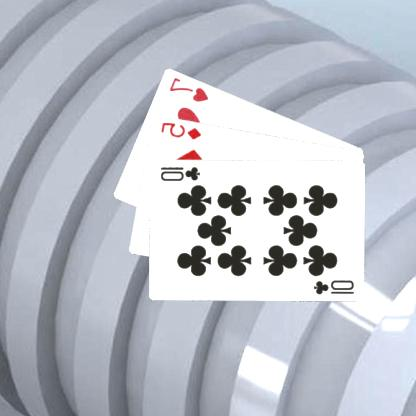10C: (312, 276, 357, 296), (159, 163, 203, 182)
5D: (160, 119, 204, 141)
7H: (168, 74, 212, 103)
